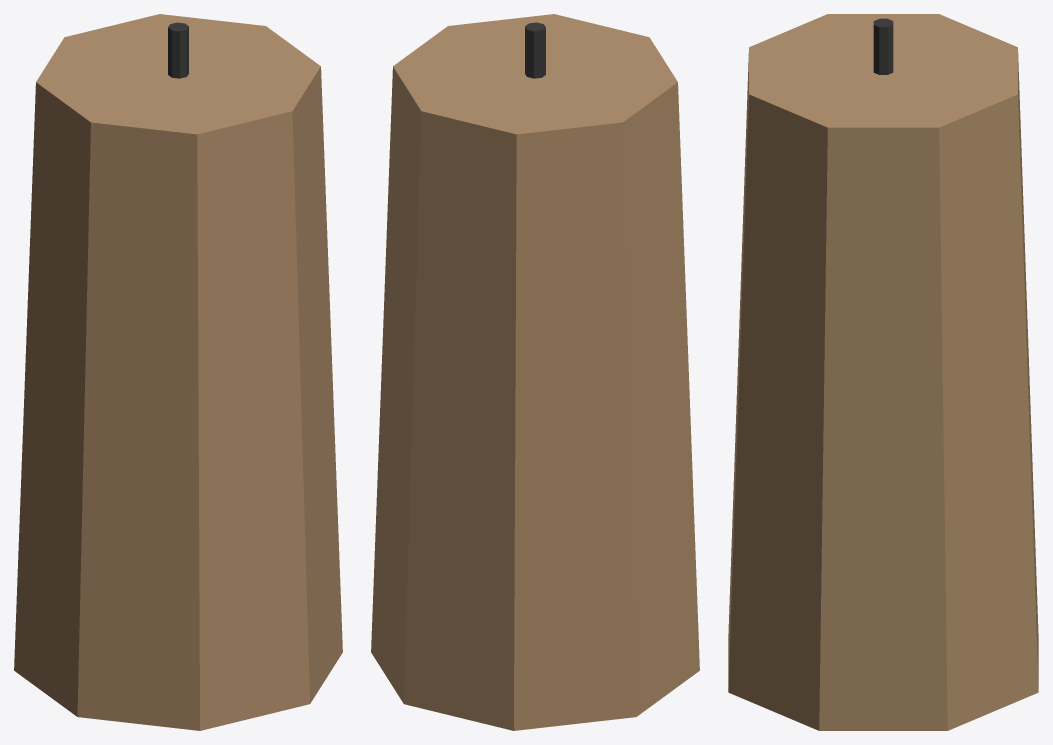
File: Candle_03.glb
The picture shows the model from 3 angles, left to right: view 1: azimuth 30°, elevation 25°; view 2: azimuth 150°, elevation 25°; view 3: azimuth 270°, elevation 25°; orthographic projection.
Parts seen in each view (by area): view 1: Candle_03; view 2: Candle_03; view 3: Candle_03.
Boxes of the visible parts, box(x1,y1,x2,y2) form: Candle_03: box(14, 14, 342, 730); Candle_03: box(371, 14, 699, 730); Candle_03: box(728, 14, 1038, 730).
Size of the model in its own units: 0.1125 by 0.257 by 0.1125.
Materials: 1 (1 with a texture image).
